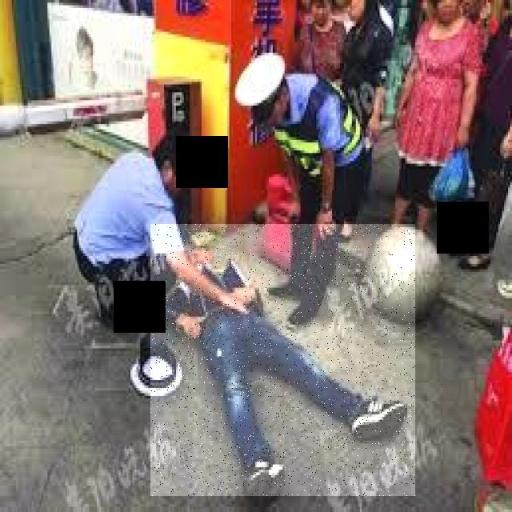Fall: (151, 225, 416, 497)
